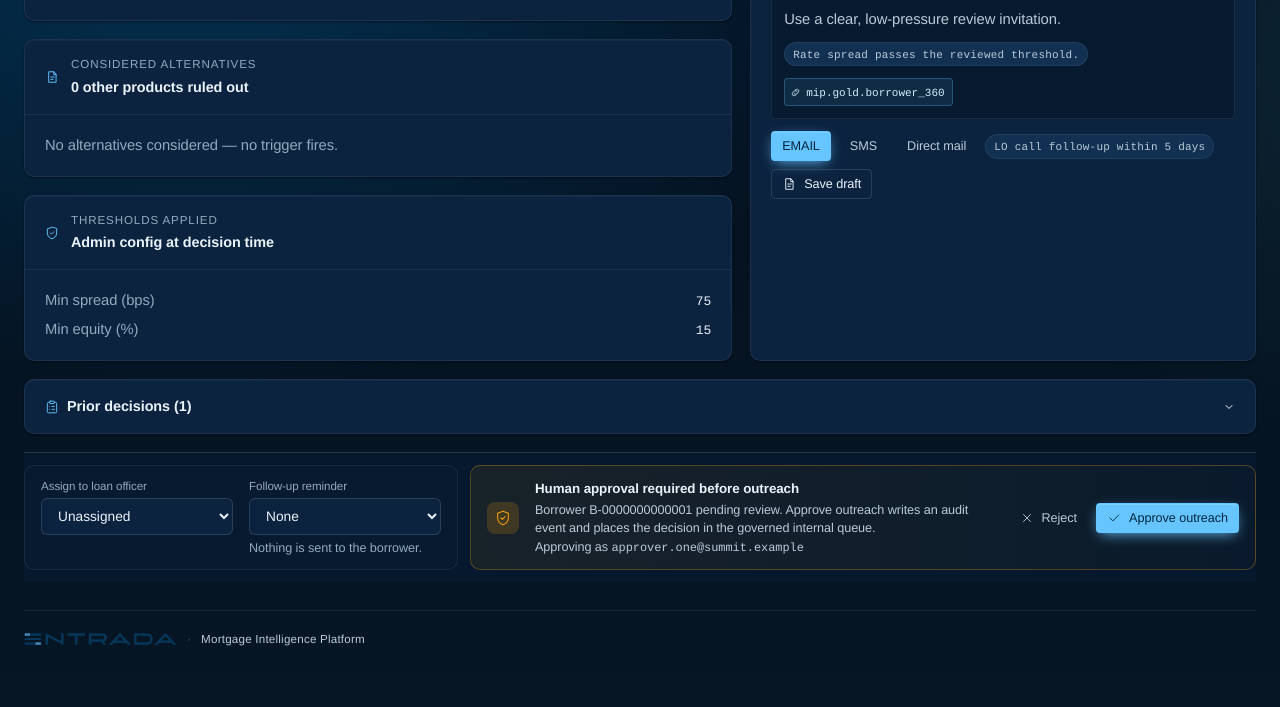
Test: Offer prior decisions › reads the history once on mount, collapsed, with the count in its toggle
(page scrolled)
What coordinates should you click on to do the following:
click the button "Prior decisions (1)"
I would click on:
 (129, 406)
Its box is [25,380,1255,433].
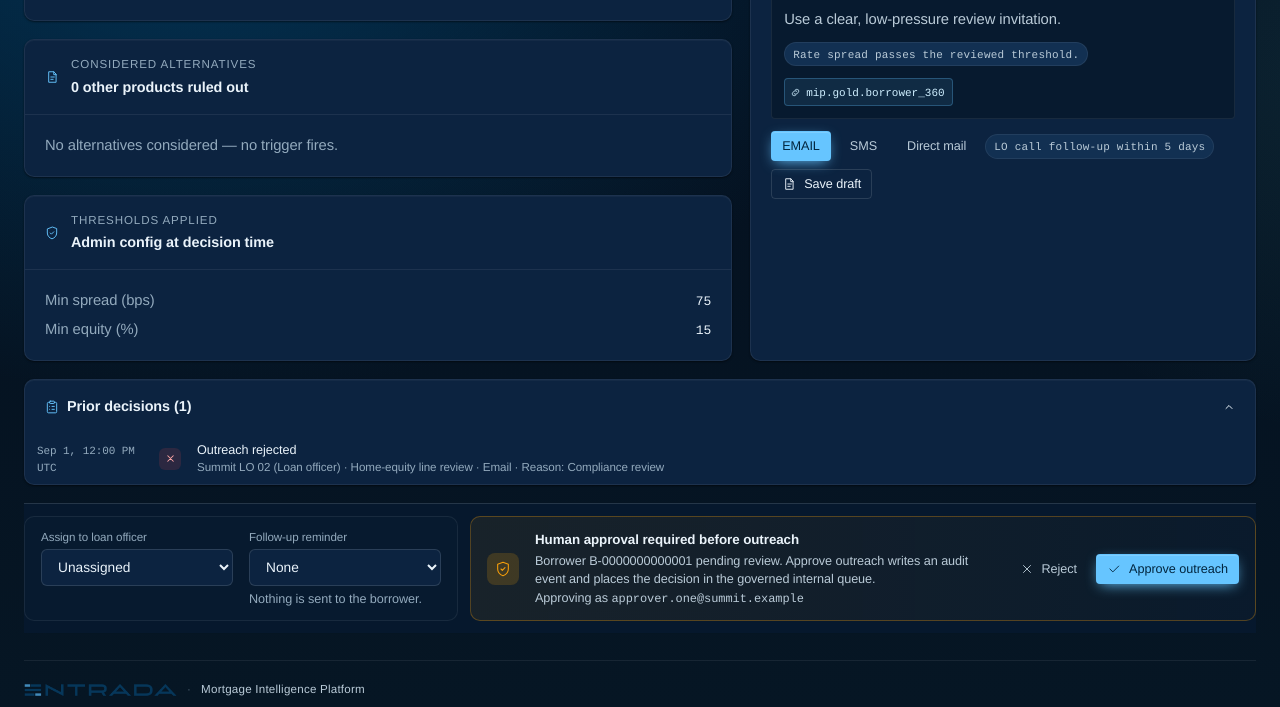
expect the list named "Decision history" shows "Reason: Compliance review": met, box [197,460,664,474]
